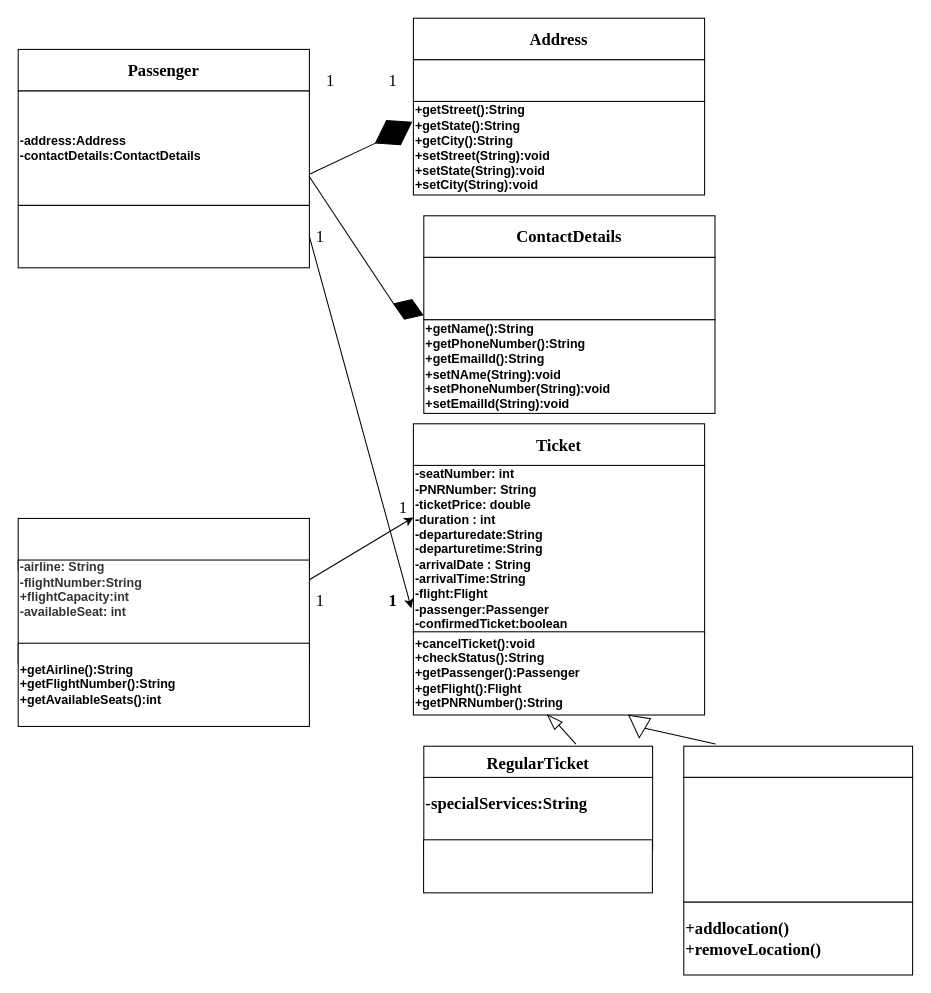
Image size: 931x993. Some labels were removed from this diagram. Each missing label, with the box of its shape:
+getAddressDetails():Address +getContactDetails():ContactDetails: (17, 204, 309, 268)
+getSpecialServices():String +setSpecialServices(String):void: (423, 839, 652, 893)
-hotelAddress:String -touristLocation:String[5]: (683, 776, 913, 902)
-name: String -phoneNumber: String -emailId : String: (423, 256, 715, 320)
-street :String -state : String -city : String: (412, 59, 705, 101)
Flight: (17, 517, 309, 570)
TouristTicket: (683, 745, 913, 777)
